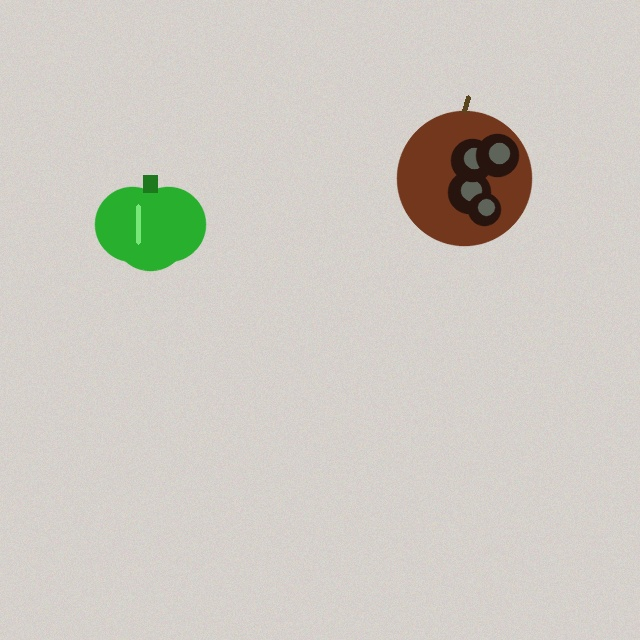Fresh bell pepper: (95, 175, 205, 270)
Rotten apple: (397, 97, 531, 245)
